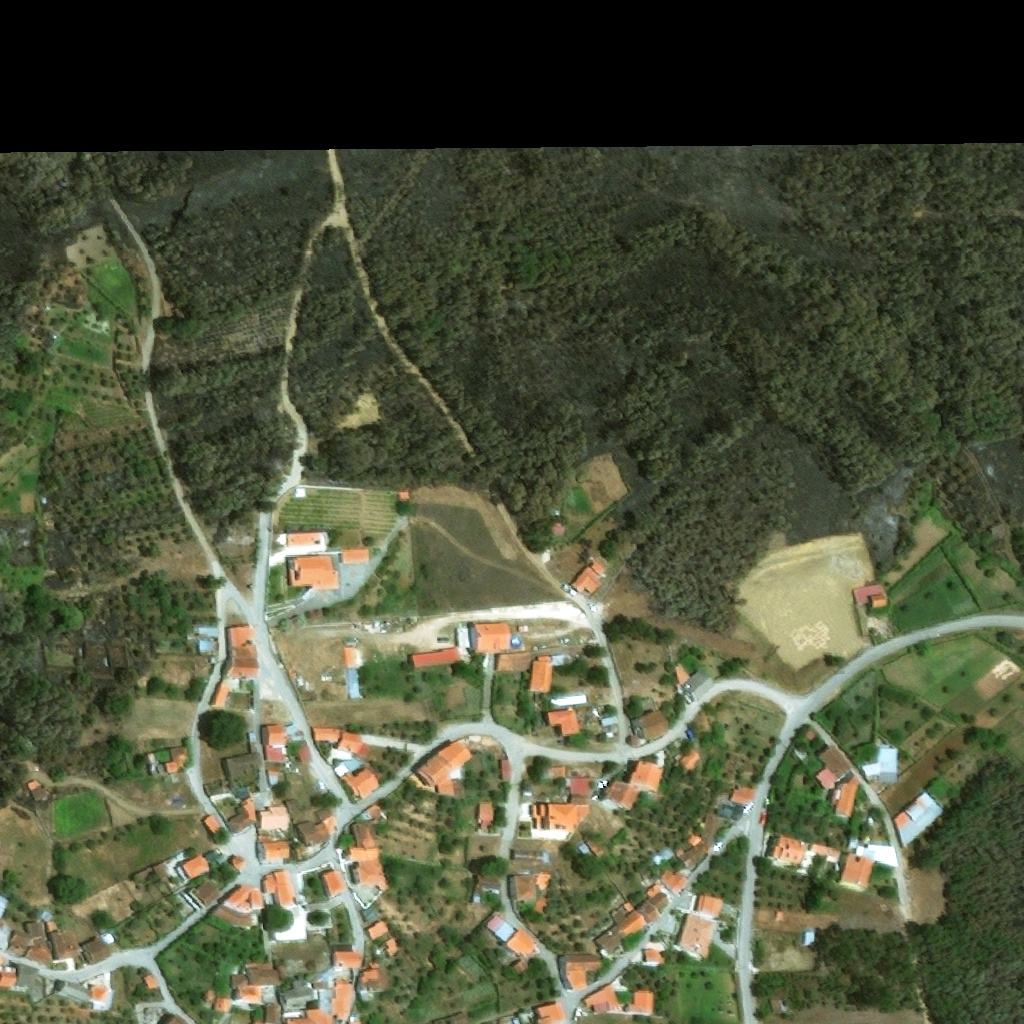0 no-damage: (893, 792, 945, 849), (416, 741, 472, 789), (596, 910, 647, 955), (327, 734, 406, 762), (8, 921, 52, 966), (676, 914, 715, 958), (226, 627, 258, 679), (288, 557, 339, 589), (814, 747, 851, 790), (563, 955, 600, 991), (343, 768, 381, 800), (532, 803, 578, 829), (571, 561, 606, 595), (630, 759, 666, 792), (840, 853, 873, 889), (350, 849, 385, 882), (262, 801, 299, 832), (474, 625, 511, 653), (412, 648, 461, 669), (682, 671, 716, 701), (585, 984, 620, 1013), (861, 750, 896, 779), (855, 845, 898, 868), (835, 776, 859, 817), (266, 871, 294, 906), (608, 782, 639, 811), (638, 710, 669, 739), (773, 838, 805, 866), (296, 820, 330, 846), (344, 647, 361, 699), (212, 905, 251, 927), (282, 980, 315, 1006), (549, 709, 580, 736), (83, 936, 112, 964), (226, 752, 264, 773), (331, 984, 352, 1022), (195, 878, 222, 907), (52, 932, 82, 958), (486, 915, 514, 942), (660, 871, 689, 897), (181, 854, 210, 879), (694, 895, 724, 919), (59, 981, 93, 1002), (531, 661, 553, 693), (507, 930, 535, 955), (167, 747, 191, 774), (853, 584, 883, 605), (468, 837, 501, 856), (537, 1004, 569, 1023), (354, 822, 377, 847), (678, 848, 706, 868), (227, 812, 253, 833), (248, 969, 280, 986), (701, 814, 718, 846), (361, 969, 388, 989), (334, 759, 364, 777), (322, 871, 345, 894), (17, 964, 39, 988), (227, 885, 251, 907), (288, 1011, 332, 1023), (498, 653, 527, 671), (638, 901, 661, 923), (516, 875, 536, 900), (264, 841, 290, 860), (316, 809, 339, 829), (681, 749, 701, 772), (27, 779, 47, 802), (312, 728, 339, 745), (635, 991, 654, 1015), (730, 788, 754, 807), (241, 800, 260, 824), (565, 778, 590, 796), (287, 533, 321, 546), (649, 891, 670, 912), (293, 744, 314, 765), (336, 953, 363, 969), (612, 903, 634, 922), (478, 803, 493, 830), (267, 725, 286, 746), (204, 815, 223, 836), (550, 519, 569, 540), (652, 847, 674, 865), (211, 685, 228, 708), (720, 804, 743, 821), (369, 921, 390, 939), (342, 549, 369, 563), (437, 775, 454, 797), (513, 851, 547, 862), (675, 663, 691, 686), (643, 950, 667, 965), (510, 959, 530, 977), (263, 1004, 281, 1023), (792, 744, 810, 763), (152, 861, 170, 879), (586, 838, 604, 856), (0, 967, 17, 986), (640, 864, 659, 881), (478, 875, 501, 889), (241, 987, 261, 1003), (456, 628, 471, 648), (768, 999, 786, 1015), (319, 990, 330, 1015), (386, 938, 401, 956), (266, 746, 283, 761), (542, 768, 565, 779), (91, 987, 107, 1002), (470, 888, 484, 905), (869, 595, 887, 608), (450, 1012, 471, 1023), (268, 770, 282, 786), (802, 729, 817, 743), (252, 889, 263, 908), (214, 999, 230, 1012), (103, 930, 116, 946), (0, 896, 9, 919), (144, 975, 158, 989), (233, 975, 248, 988), (199, 641, 216, 652), (137, 868, 153, 879), (688, 834, 701, 847), (193, 628, 217, 635), (502, 761, 510, 781), (0, 931, 8, 951), (803, 933, 814, 946), (578, 843, 591, 854), (399, 491, 412, 500), (47, 921, 58, 931), (497, 1017, 514, 1023), (234, 857, 244, 867), (849, 837, 858, 848), (296, 489, 306, 497), (775, 913, 782, 921)
